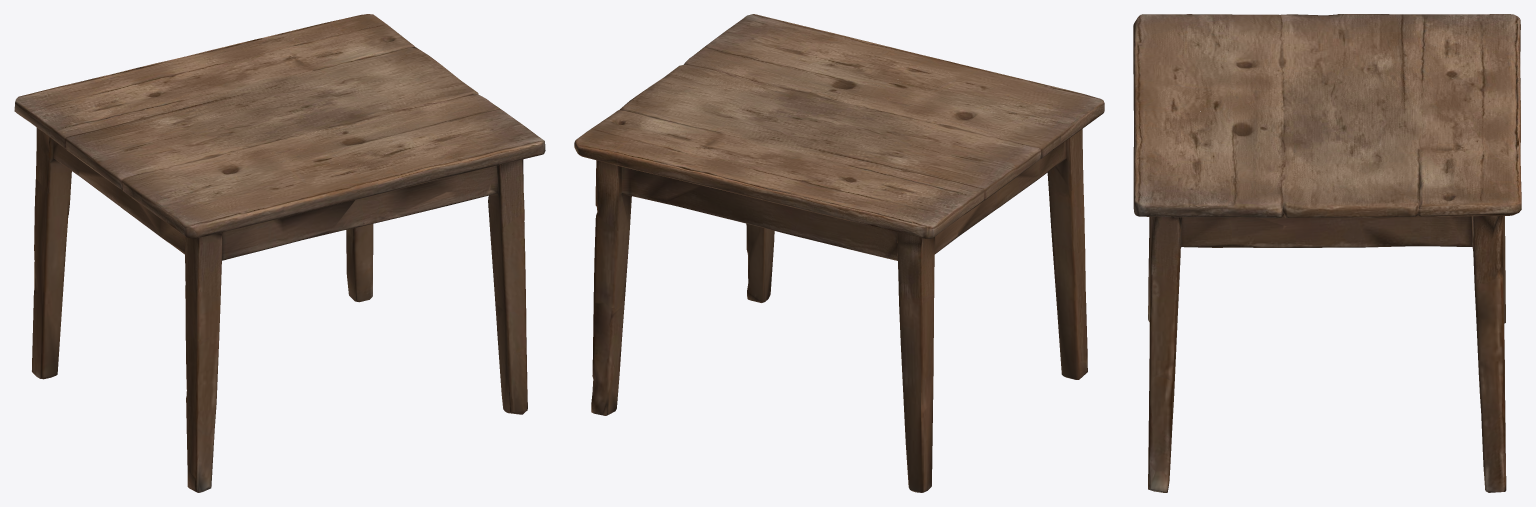
Rendered from dining_table.glb.
3 renders of one model, left to right at view 1: azimuth 30°, elevation 25°; view 2: azimuth 150°, elevation 25°; view 3: azimuth 270°, elevation 25°, orthographic. The views are drawn at different scales.
Parts seen in each view (by area): view 1: tripo_node_8fdef62d-3eaf-4e73-8881-983760b60b65; view 2: tripo_node_8fdef62d-3eaf-4e73-8881-983760b60b65; view 3: tripo_node_8fdef62d-3eaf-4e73-8881-983760b60b65.
Boxes of the visible parts, x1,y1,x2,y2 form: tripo_node_8fdef62d-3eaf-4e73-8881-983760b60b65: (14, 14, 545, 492); tripo_node_8fdef62d-3eaf-4e73-8881-983760b60b65: (574, 14, 1104, 492); tripo_node_8fdef62d-3eaf-4e73-8881-983760b60b65: (1133, 14, 1521, 492).
Bounding box in the file's own units: 0.9806 × 0.7134 × 0.8434.
Materials: 1 (1 with a texture image).
